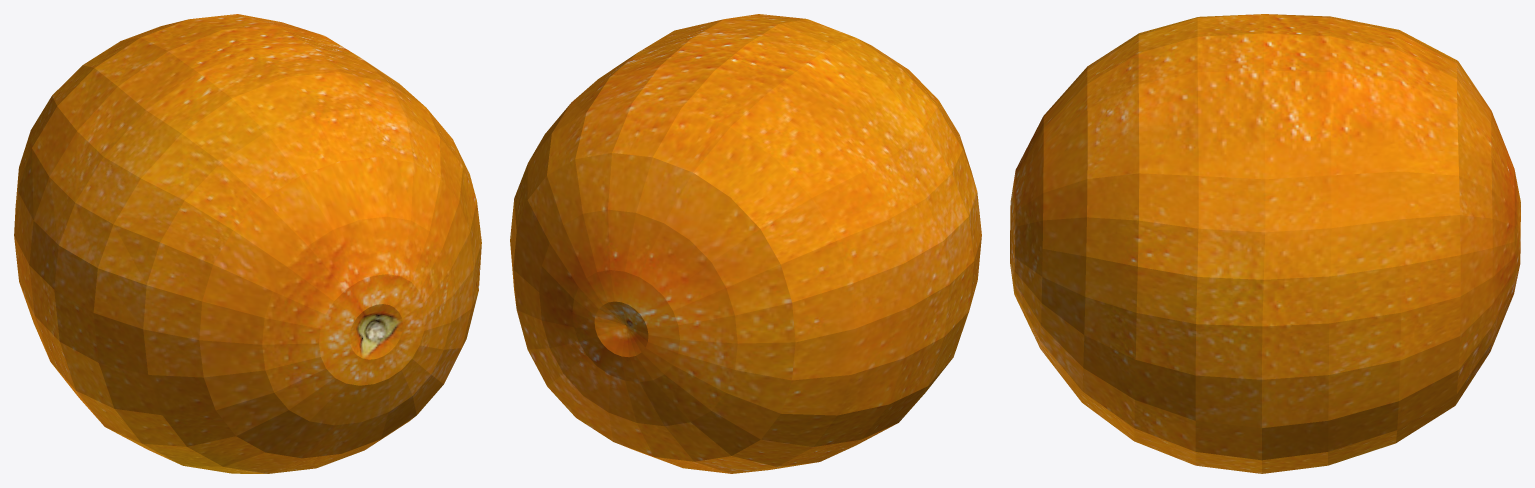
File: orange.obj
3 renders of one model, left to right at view 1: azimuth 30°, elevation 25°; view 2: azimuth 150°, elevation 25°; view 3: azimuth 270°, elevation 25°, orthographic. The views are drawn at different scales.
Visible parts, largest first — view 1: orange; view 2: orange; view 3: orange.
Boxes of the visible parts, x1,y1,x2,y2 form: orange: [14, 14, 481, 473]; orange: [510, 14, 981, 473]; orange: [1010, 14, 1520, 473].
Bounding box in the file's own units: 0.076 × 0.073 × 0.0814.
